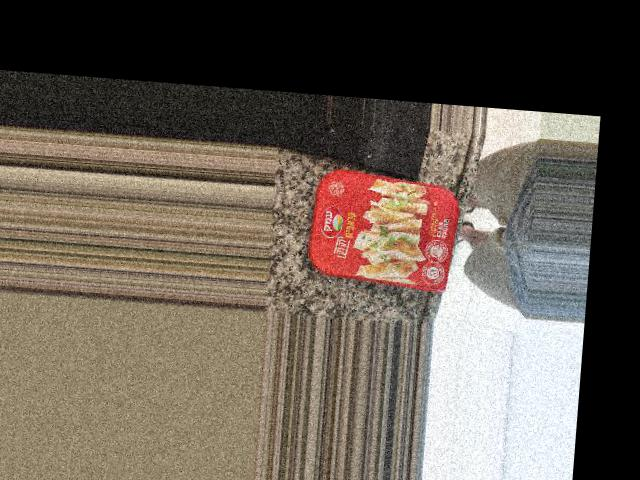cheese: (324, 148, 492, 281)
